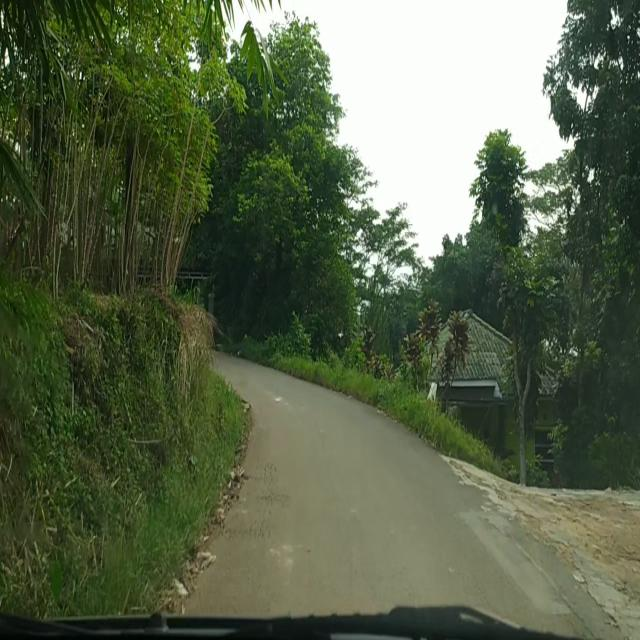Drain Hole: (227, 456, 284, 541)
